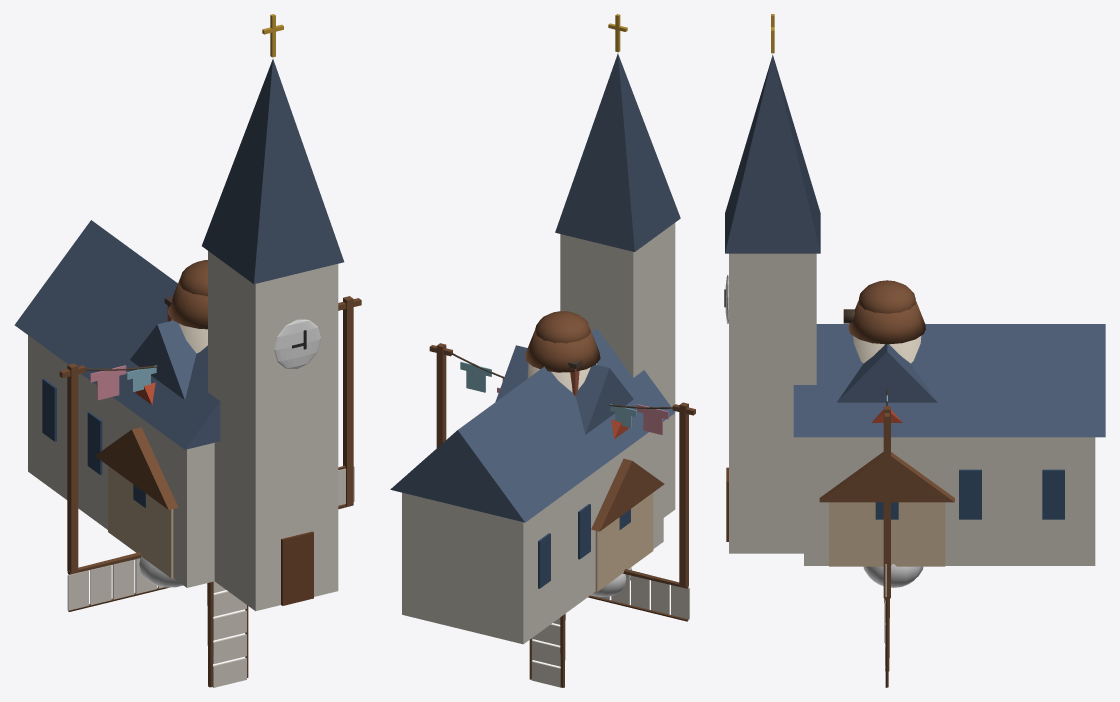
The model's file is kit.glb.
3 renders of one model, left to right at view 1: azimuth 30°, elevation 25°; view 2: azimuth 150°, elevation 25°; view 3: azimuth 270°, elevation 25°, orthographic. The views are drawn at different scales.
Parts seen in each view (by area): view 1: kit_church, kit_windmill_blades, kit_house_c, kit_clothesline, kit_house_b, kit_windmill, kit_cloud; view 2: kit_church, kit_house_c, kit_clothesline, kit_windmill_blades, kit_windmill, kit_house_b; view 3: kit_church, kit_house_c, kit_windmill, kit_house_b, kit_clothesline, kit_cloud.
Boxes of the visible parts, bbox=[...] form: kit_church: bbox=[14, 14, 344, 611]; kit_windmill_blades: bbox=[67, 465, 354, 687]; kit_house_c: bbox=[95, 427, 178, 578]; kit_clothesline: bbox=[59, 296, 361, 573]; kit_house_b: bbox=[130, 296, 196, 399]; kit_windmill: bbox=[167, 260, 207, 353]; kit_cloud: bbox=[139, 556, 183, 587]; kit_church: bbox=[390, 14, 680, 644]; kit_house_c: bbox=[591, 458, 664, 591]; kit_clothesline: bbox=[429, 343, 695, 587]; kit_windmill_blades: bbox=[529, 569, 689, 687]; kit_windmill: bbox=[525, 311, 600, 392]; kit_house_b: bbox=[495, 345, 633, 434]; kit_church: bbox=[724, 14, 1105, 565]; kit_house_c: bbox=[819, 452, 954, 566]; kit_windmill: bbox=[843, 280, 925, 363]; kit_house_b: bbox=[837, 344, 937, 402]; kit_clothesline: bbox=[883, 389, 890, 598]; kit_cloud: bbox=[863, 564, 923, 587].
Size of the model in its own units: 15.2 by 34.87 by 18.33.
